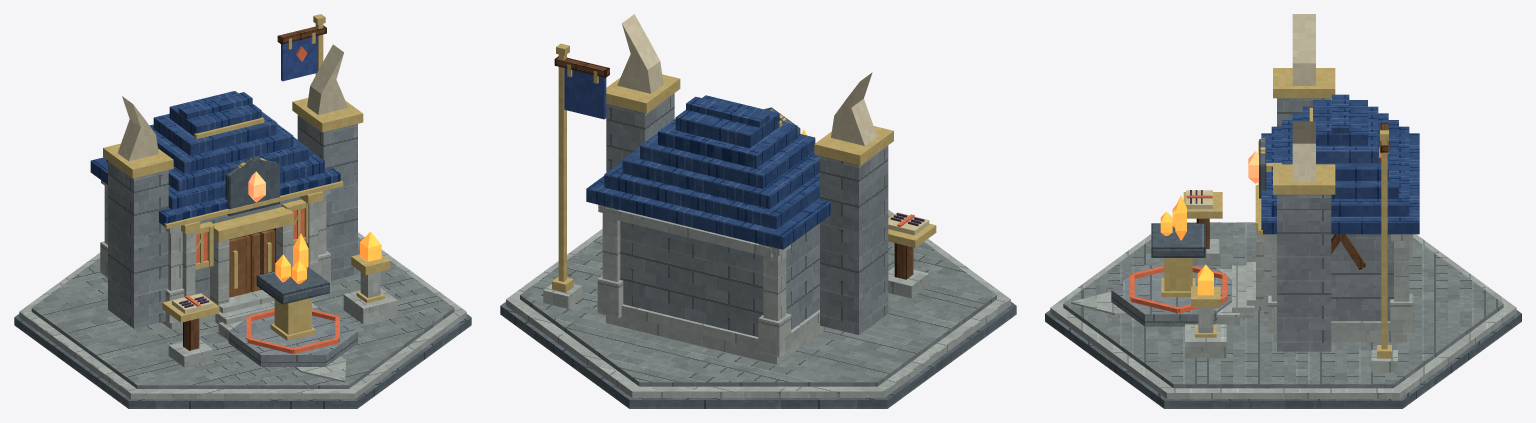
Rendered from infernal_sanctum_hex_v1.glb.
3 views of the same model, side by side, from view 1: azimuth 30°, elevation 25°; view 2: azimuth 150°, elevation 25°; view 3: azimuth 270°, elevation 25° (orthographic). The views are drawn at different scales.
Parts seen in each view (by area): view 1: Infernal_Sanctum_Hex_V1_Foundation, Infernal_Sanctum_Hex_V1_Hall, Infernal_Sanctum_Hex_V1_Roofs, Infernal_Sanctum_Hex_V1_Focus, Infernal_Sanctum_Hex_V1_Courtyard, Infernal_Sanctum_Hex_V1_Details, Infernal_Sanctum_Hex_V1_Training, Infernal_Sanctum_Hex_V1_Faction; view 2: Infernal_Sanctum_Hex_V1_Foundation, Infernal_Sanctum_Hex_V1_Hall, Infernal_Sanctum_Hex_V1_Roofs, Infernal_Sanctum_Hex_V1_Faction, Infernal_Sanctum_Hex_V1_Focus, Infernal_Sanctum_Hex_V1_Training, Infernal_Sanctum_Hex_V1_Details; view 3: Infernal_Sanctum_Hex_V1_Foundation, Infernal_Sanctum_Hex_V1_Hall, Infernal_Sanctum_Hex_V1_Roofs, Infernal_Sanctum_Hex_V1_Focus, Infernal_Sanctum_Hex_V1_Courtyard, Infernal_Sanctum_Hex_V1_Training, Infernal_Sanctum_Hex_V1_Faction, Infernal_Sanctum_Hex_V1_Details.
Part boxes in pixels (x1,y1,x2,y2): Infernal_Sanctum_Hex_V1_Foundation: (14, 232, 471, 408); Infernal_Sanctum_Hex_V1_Hall: (100, 115, 357, 329); Infernal_Sanctum_Hex_V1_Roofs: (90, 91, 363, 228); Infernal_Sanctum_Hex_V1_Focus: (118, 44, 397, 340); Infernal_Sanctum_Hex_V1_Courtyard: (214, 290, 357, 382); Infernal_Sanctum_Hex_V1_Details: (181, 191, 323, 296); Infernal_Sanctum_Hex_V1_Training: (162, 293, 339, 367); Infernal_Sanctum_Hex_V1_Faction: (277, 14, 326, 81); Infernal_Sanctum_Hex_V1_Foundation: (500, 210, 1016, 408); Infernal_Sanctum_Hex_V1_Hall: (597, 93, 888, 364); Infernal_Sanctum_Hex_V1_Roofs: (586, 74, 893, 249); Infernal_Sanctum_Hex_V1_Faction: (543, 43, 609, 308); Infernal_Sanctum_Hex_V1_Focus: (617, 14, 877, 145); Infernal_Sanctum_Hex_V1_Training: (888, 212, 936, 298); Infernal_Sanctum_Hex_V1_Details: (605, 208, 772, 257); Infernal_Sanctum_Hex_V1_Foundation: (1045, 222, 1521, 408); Infernal_Sanctum_Hex_V1_Hall: (1255, 98, 1412, 351); Infernal_Sanctum_Hex_V1_Roofs: (1258, 68, 1419, 234); Infernal_Sanctum_Hex_V1_Focus: (1151, 14, 1315, 358); Infernal_Sanctum_Hex_V1_Courtyard: (1071, 262, 1264, 326); Infernal_Sanctum_Hex_V1_Training: (1130, 190, 1226, 312); Infernal_Sanctum_Hex_V1_Faction: (1371, 123, 1397, 372); Infernal_Sanctum_Hex_V1_Details: (1260, 234, 1412, 317).
Size of the model in its own units: 1.59 by 1.08 by 1.84.
1 material, 1 textured.
